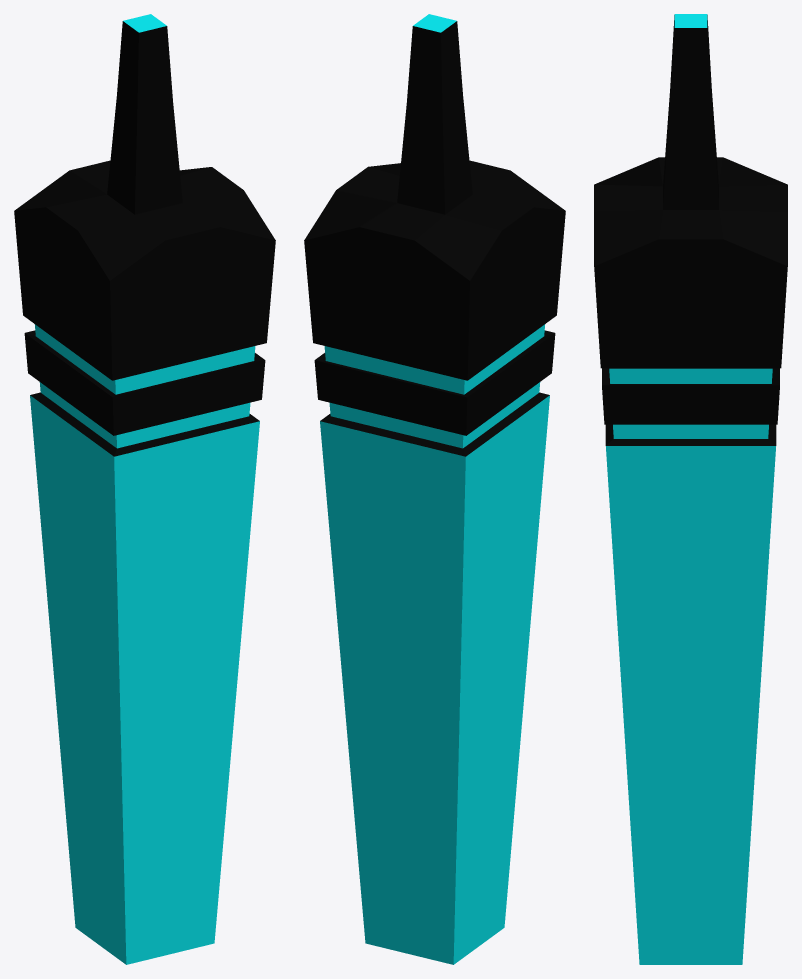
The model's file is bottle6.fbx.
3 views of the same model, side by side, from view 1: azimuth 30°, elevation 25°; view 2: azimuth 150°, elevation 25°; view 3: azimuth 270°, elevation 25° (orthographic).
Visible parts, largest first — view 1: bottle6.002; view 2: bottle6.002; view 3: bottle6.002.
Boxes of the visible parts, box(x1,y1,x2,y2) form: bottle6.002: box(14, 14, 275, 964); bottle6.002: box(304, 14, 565, 964); bottle6.002: box(594, 14, 787, 964).
Size of the model in its own units: 0.0178 by 0.0935 by 0.0178.
